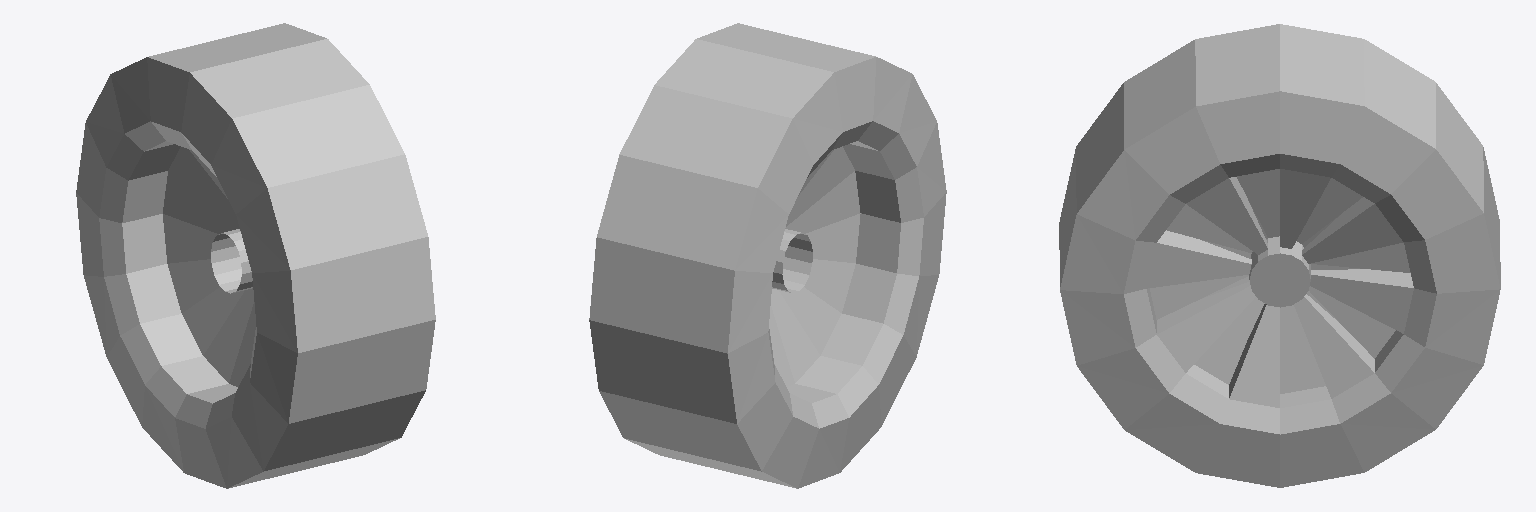
The model's file is ruotaAD.obj.
The picture shows the model from 3 angles: view 1: azimuth 30°, elevation 25°; view 2: azimuth 150°, elevation 25°; view 3: azimuth 270°, elevation 25°; orthographic projection.
Visible parts, largest first — view 1: Cube.002; view 2: Cube.002; view 3: Cube.002.
Part boxes in pixels (bbox=[...]): Cube.002: bbox=[76, 23, 435, 488]; Cube.002: bbox=[589, 23, 946, 488]; Cube.002: bbox=[1059, 24, 1500, 487].
Bounding box in the file's own units: 0.2356 × 0.5537 × 0.5545.